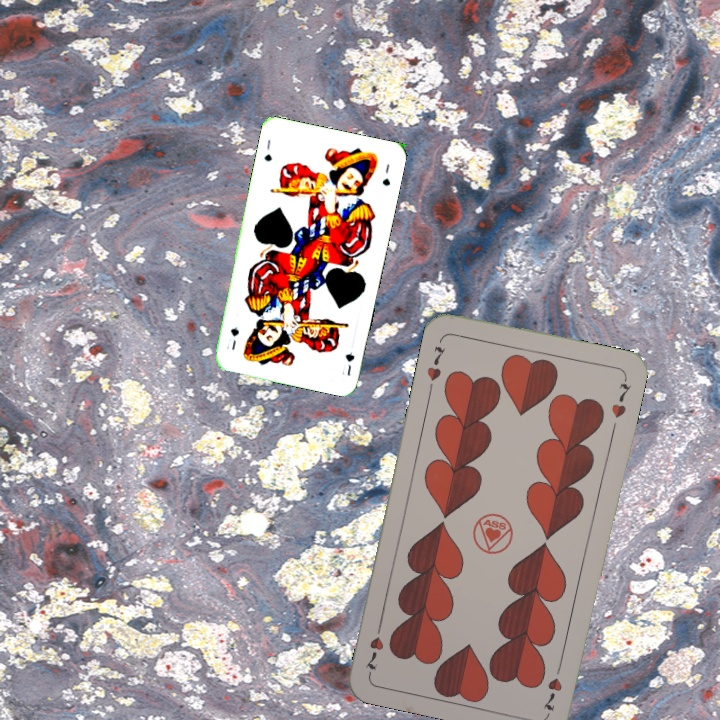GU: (341, 348, 357, 378), (260, 136, 274, 164)
H7: (539, 658, 565, 716), (423, 342, 448, 394)
